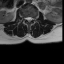CCS_normal: (28, 15, 30, 24)
LFS_normal: (32, 15, 34, 22)
LLS_normal: (30, 15, 32, 22)
RFS_normal: (23, 14, 25, 21)
RLS_normal: (25, 15, 28, 22)
